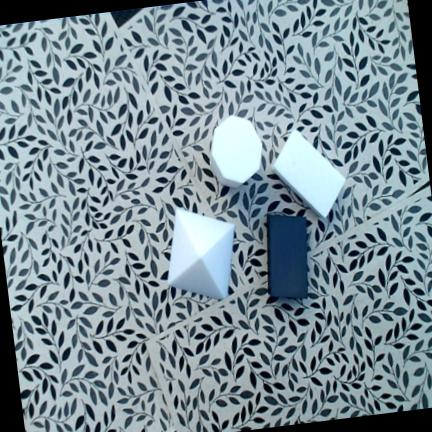Paralelepipedo: (271, 128, 345, 218), (267, 214, 307, 298)
Piramide: (166, 207, 235, 298)
Prisma_hexagonal: (210, 114, 262, 187)
